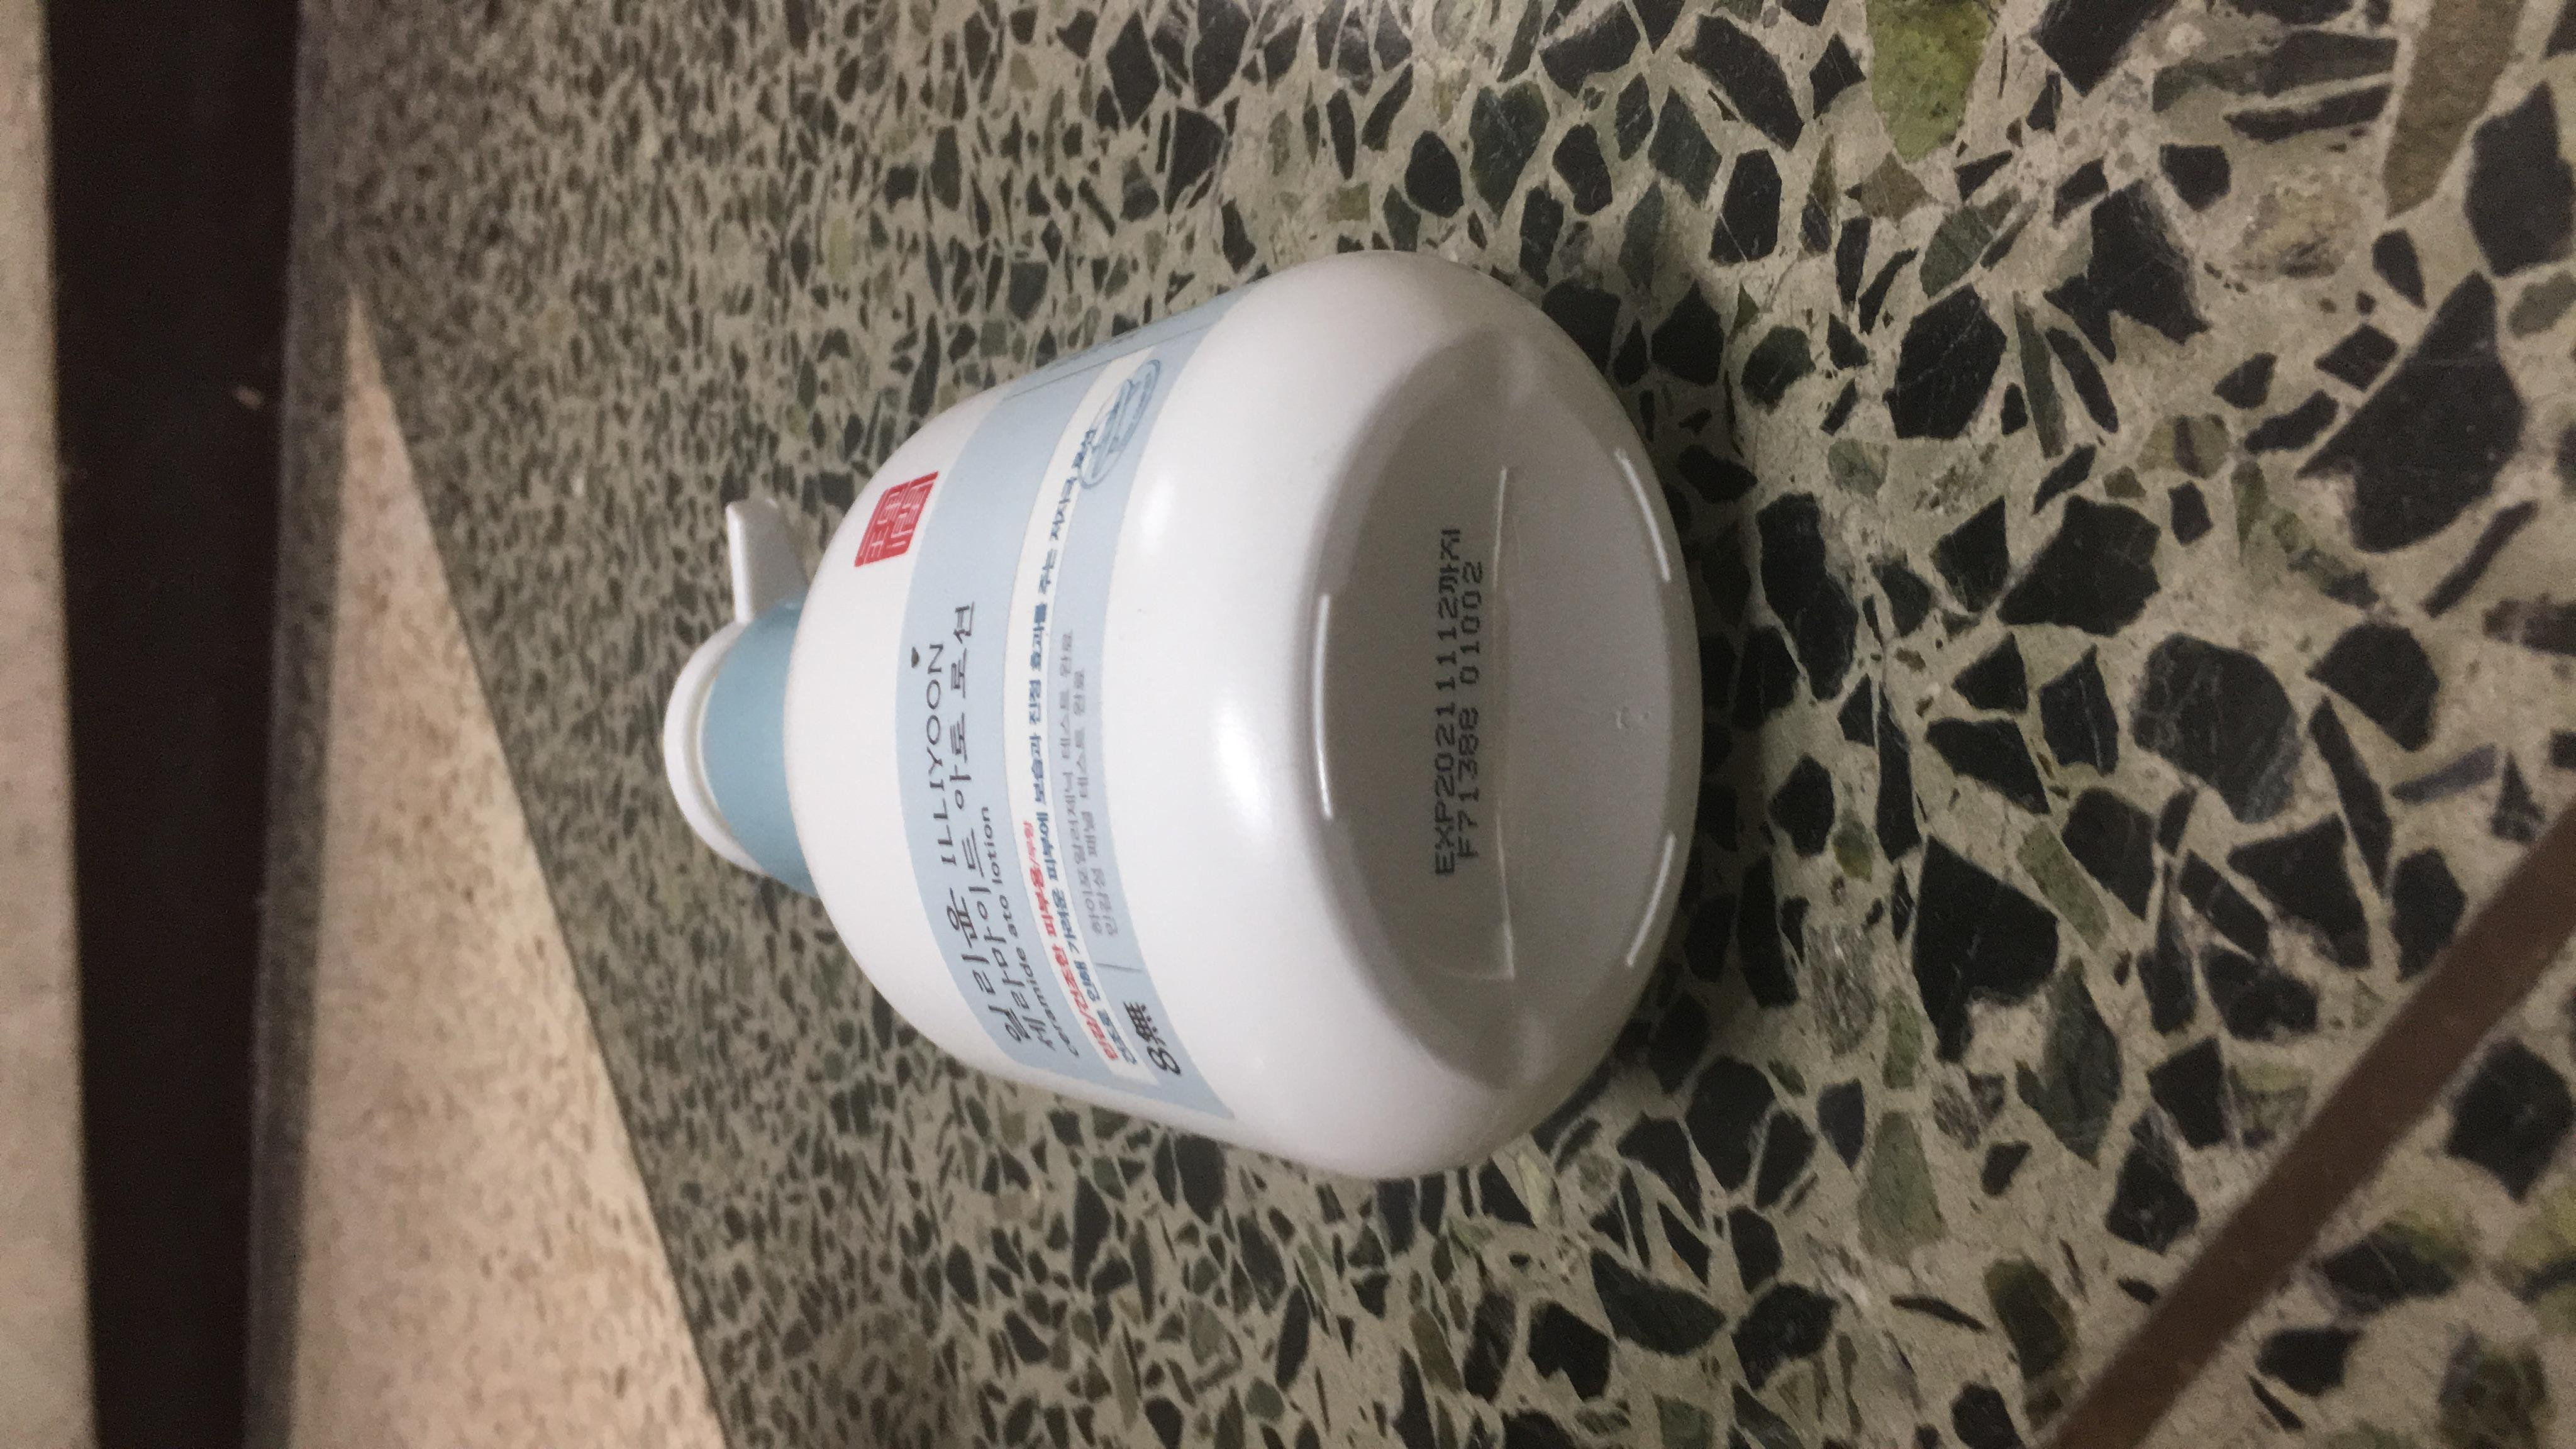bottle: (510, 327, 2238, 964)
